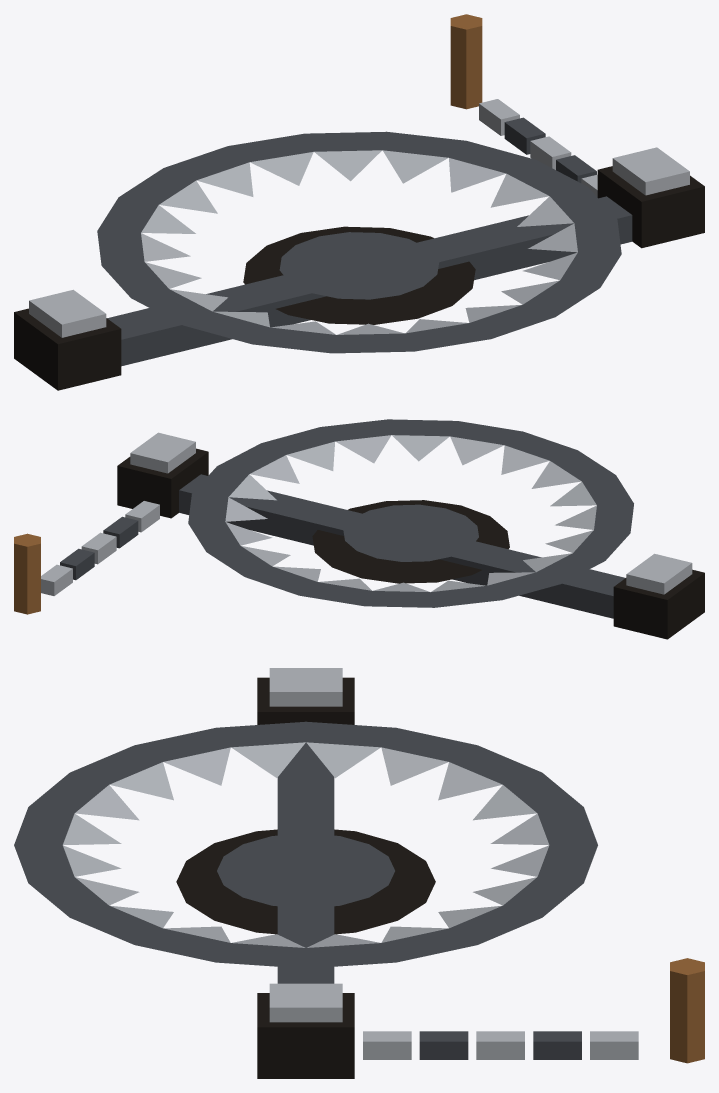
Rendered from snare_open.glb.
3 renders of one model, top to bottom at view 1: azimuth 30°, elevation 25°; view 2: azimuth 150°, elevation 25°; view 3: azimuth 270°, elevation 25°, orthographic. The views are drawn at different scales.
Parts seen in each view (by area): view 1: snare_open; view 2: snare_open; view 3: snare_open.
Part boxes in pixels (x1,y1,x2,y2): snare_open: (14,14,704,390); snare_open: (14,419,704,639); snare_open: (14,668,704,1078).
Size of the model in its own units: 1.02 by 0.12 by 0.8517.
1 material, 1 textured.
